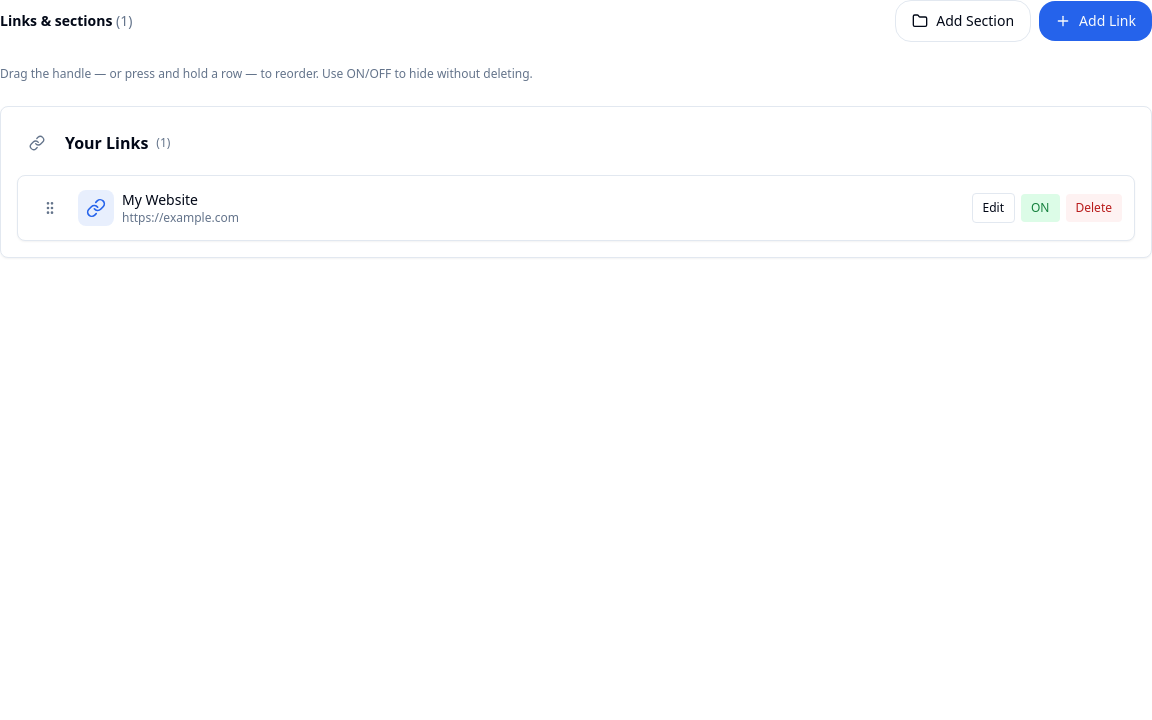
Test: LinksManager add/edit modal › saves an edited link and closes the dialog
This screenshot has width=1152, height=720.
Click the button "Edit". click: [993, 208]
box: [972, 193, 1015, 223]
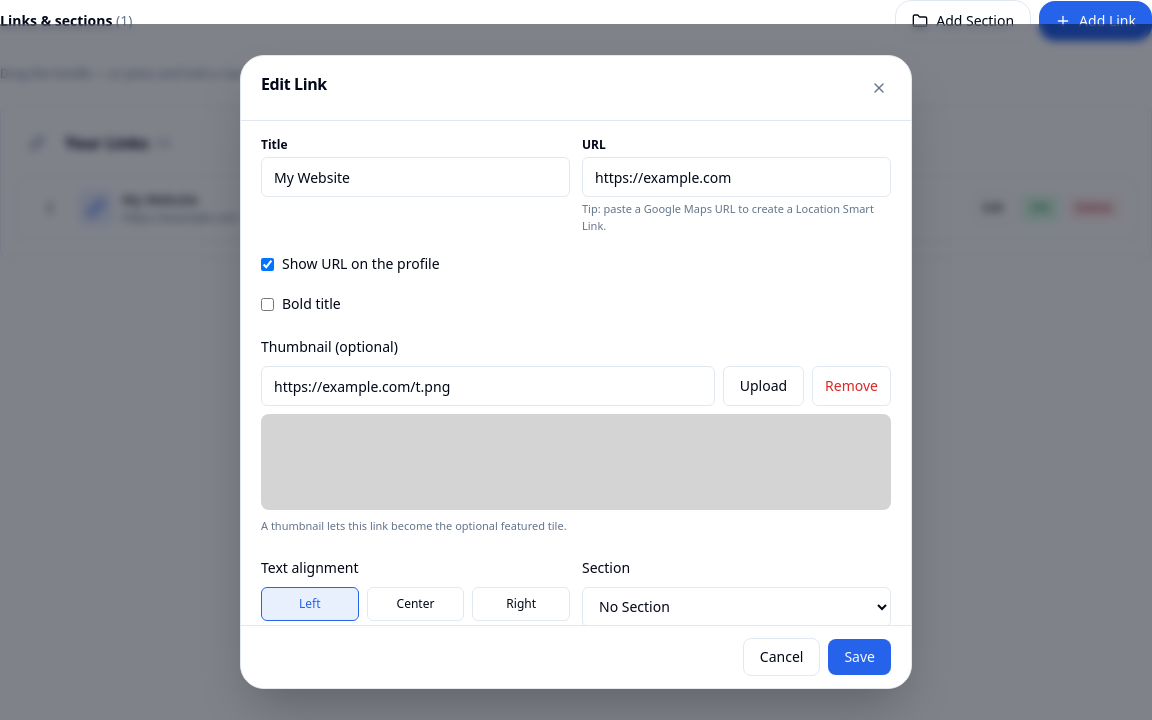
Replace the text in the field labelled "Title" with "Updated". click: [416, 177]
box: [261, 157, 570, 197]
(page scrolled)
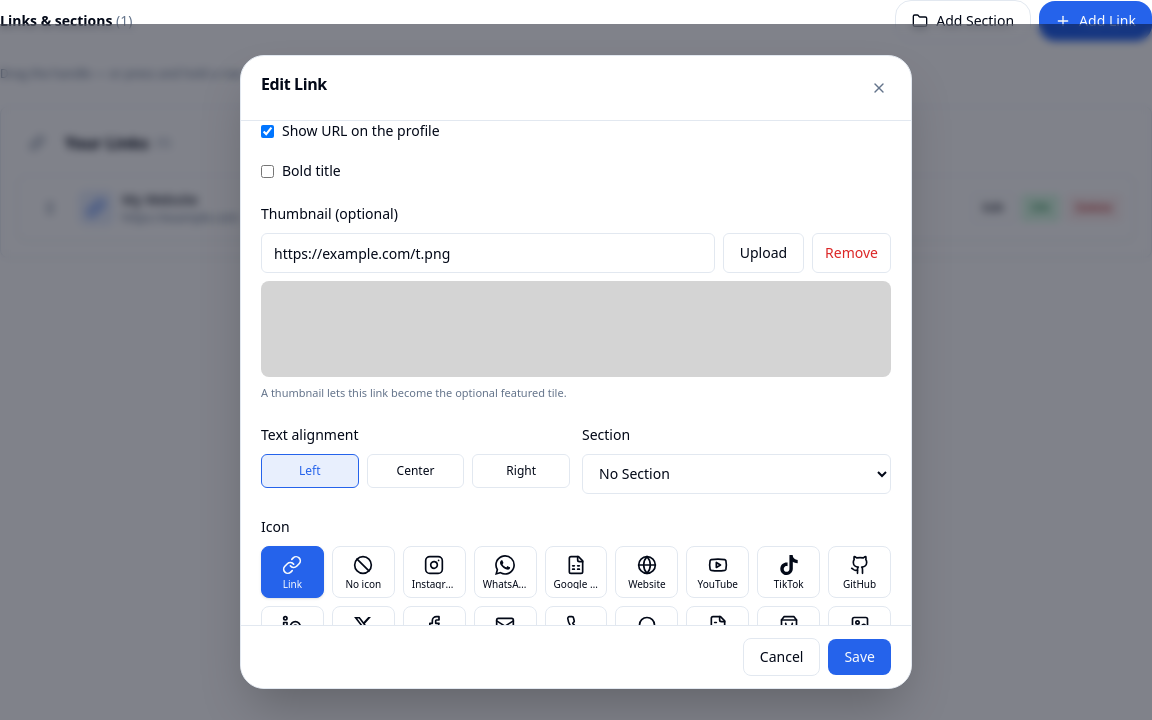
Expected: the form is shown, [261, 121, 891, 625]
Submit the form
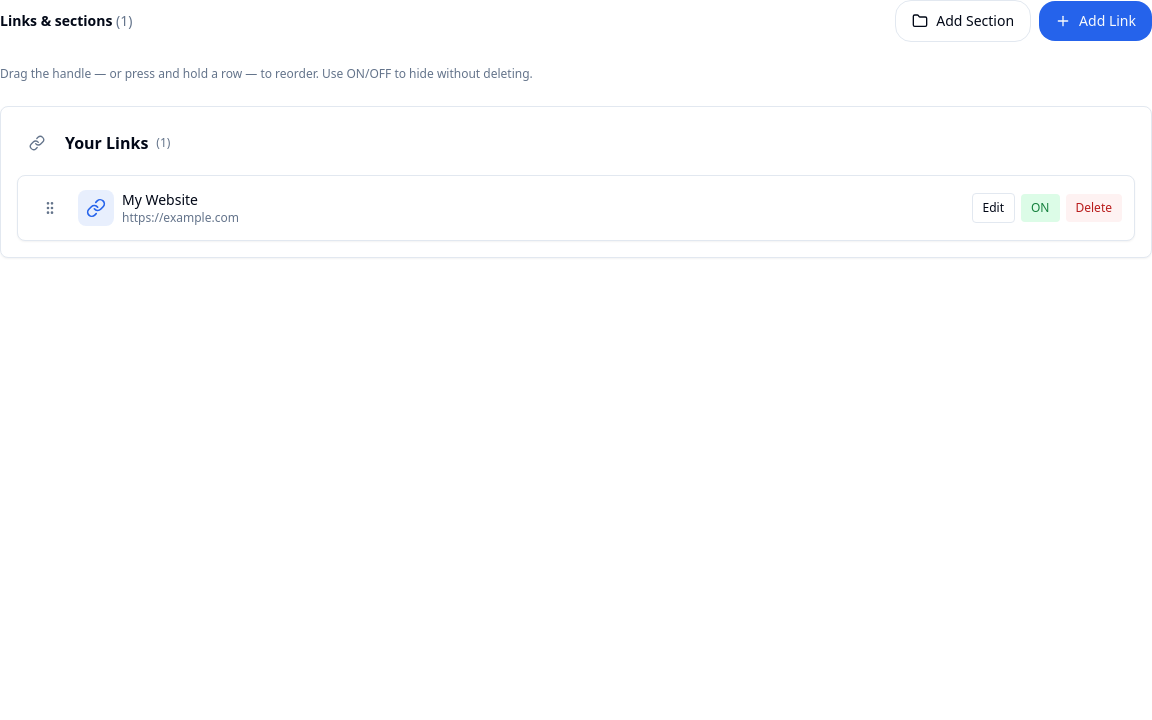
Expected: the dialog is gone
